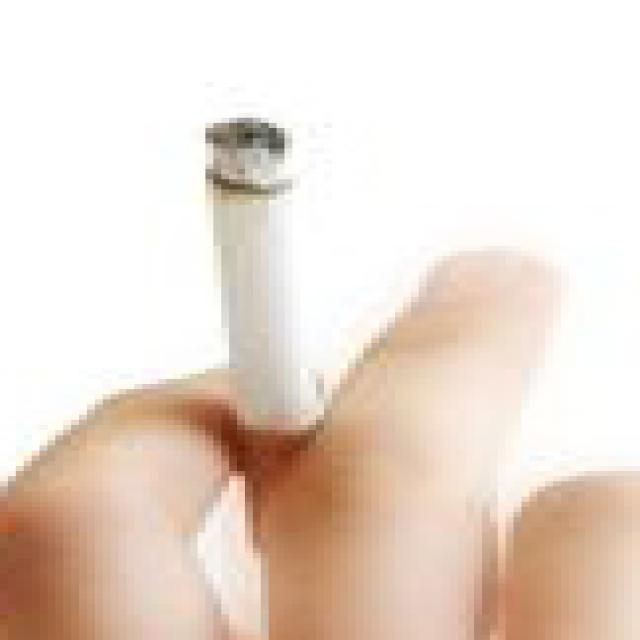smoking: (209, 118, 334, 556)
